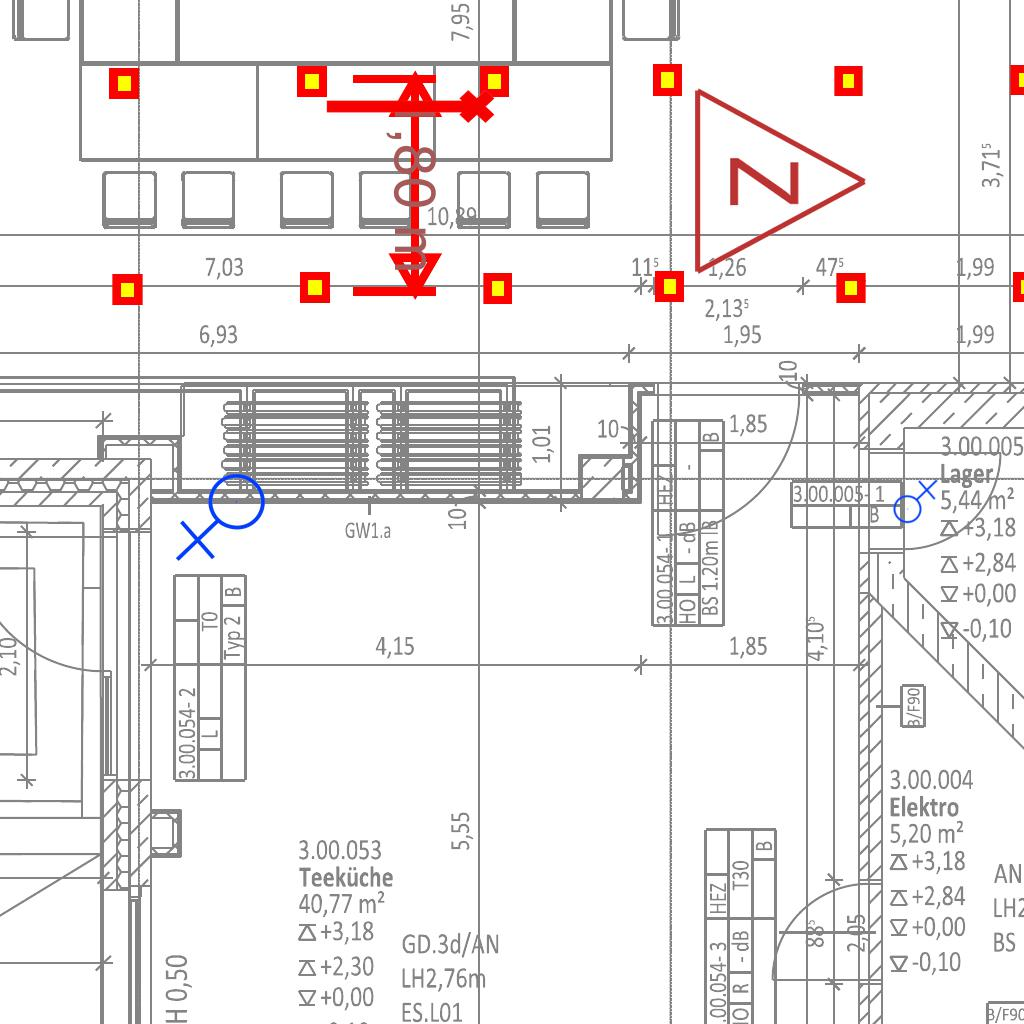ASR_Ansaugoeffnung: (321, 86, 497, 132)
Elektroanschluss_allgemein_230V_Geraeteanschlussdose_230V: (175, 472, 274, 566), (889, 477, 938, 524)
Zimmersignalleuchte: (680, 81, 880, 277)
